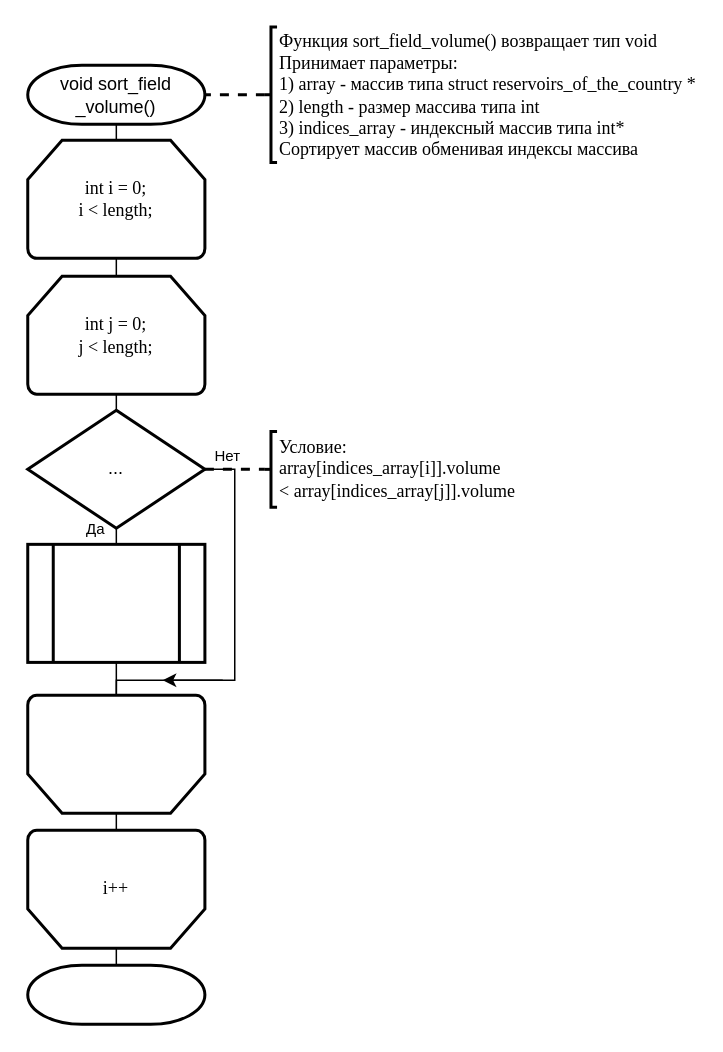
Some shapes in this 723 by 1052 pixel diagram are drawn without their labels. The shapes that lost their labels are listed below. From the top down, each one's centre as x and y in pixels, then its label:
At point 116,602: "int_swap( &indices_array[i], &indices_array[j] )".
At point 116,753: "j++".
At point 116,994: "Конец".
